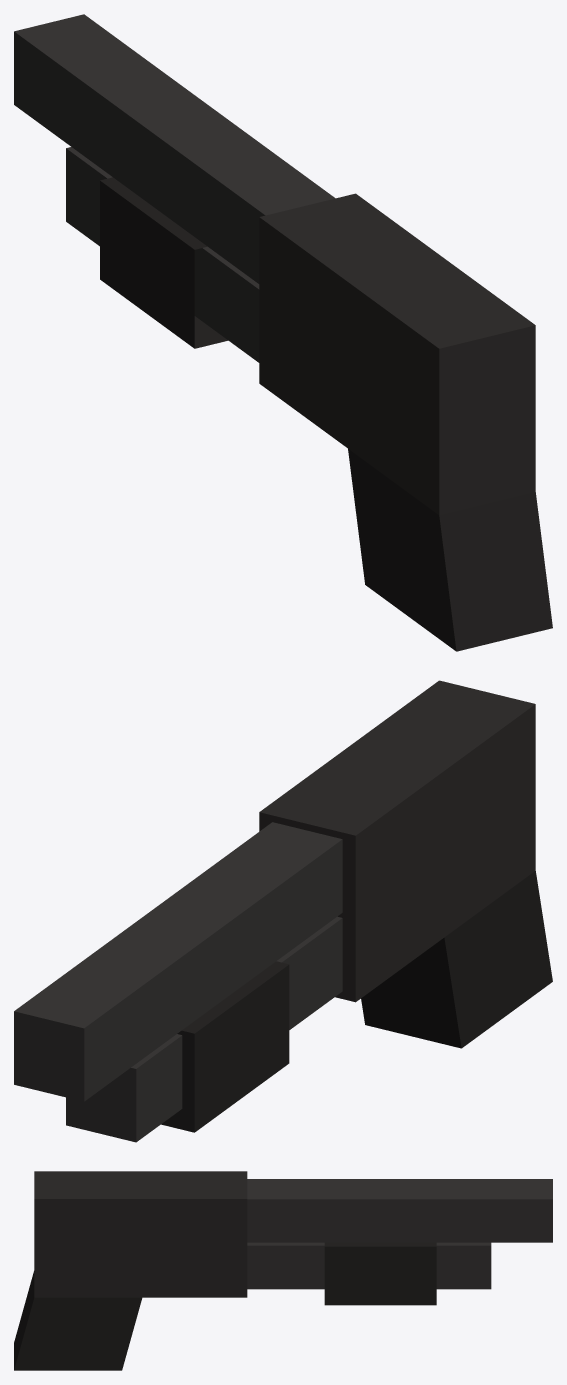
The model's file is Underbarrel_shotgun.FBX.
3 renders of one model, top to bottom at view 1: azimuth 30°, elevation 25°; view 2: azimuth 150°, elevation 25°; view 3: azimuth 270°, elevation 25°, orthographic. The views are drawn at different scales.
Visible parts, largest first — view 1: Underbarrel_Shotgun; view 2: Underbarrel_Shotgun; view 3: Underbarrel_Shotgun.
Part boxes in pixels (x1,y1,x2,y2): Underbarrel_Shotgun: (14, 14, 552, 651); Underbarrel_Shotgun: (14, 680, 552, 1142); Underbarrel_Shotgun: (14, 1171, 552, 1370).
Size of the model in its own units: 6.7 by 54.82 by 19.27.
